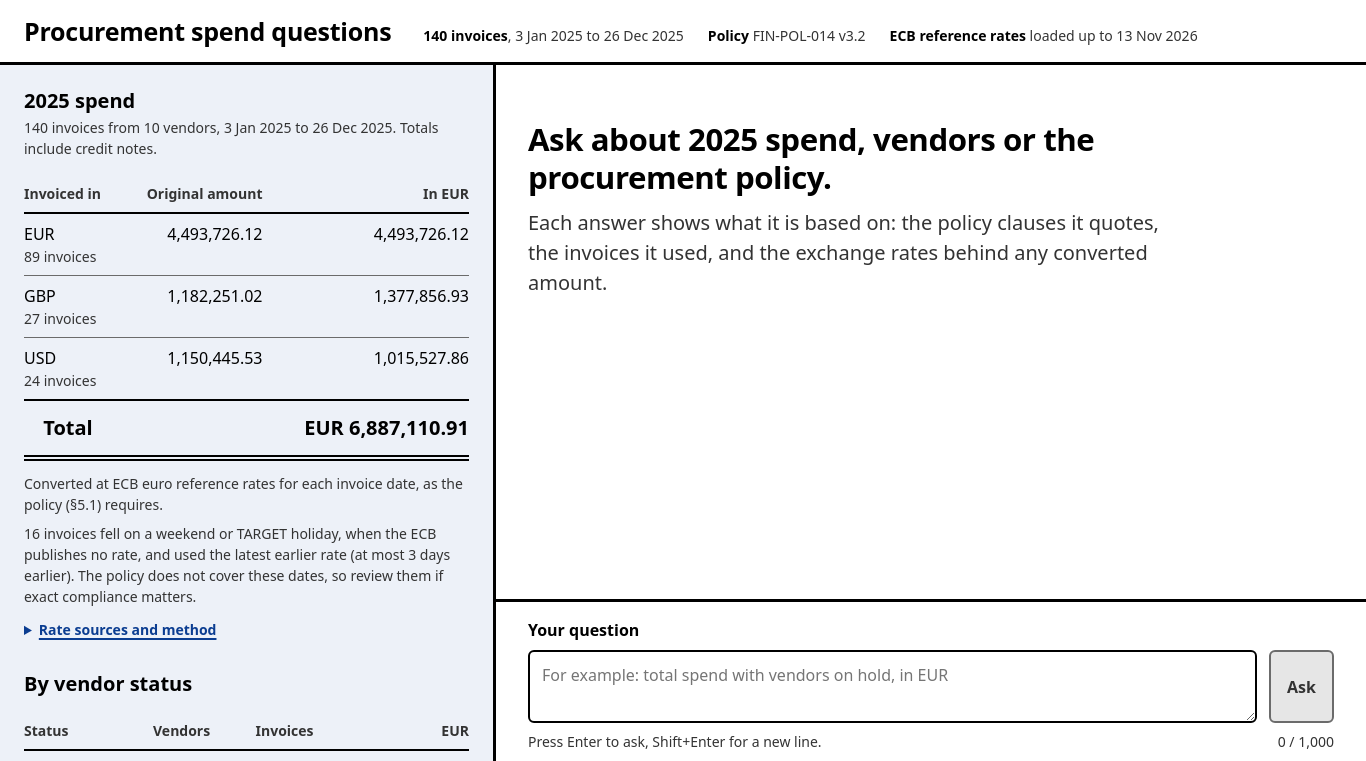
Test: asking questions › turns a failed query into guidance with an edit action
Later steps or results of the test are not shown.
Step 1. Type "Spend by region?" into the text box labelled "Your question" → x=893, y=687, box [528, 650, 1257, 723]
Then press Enter
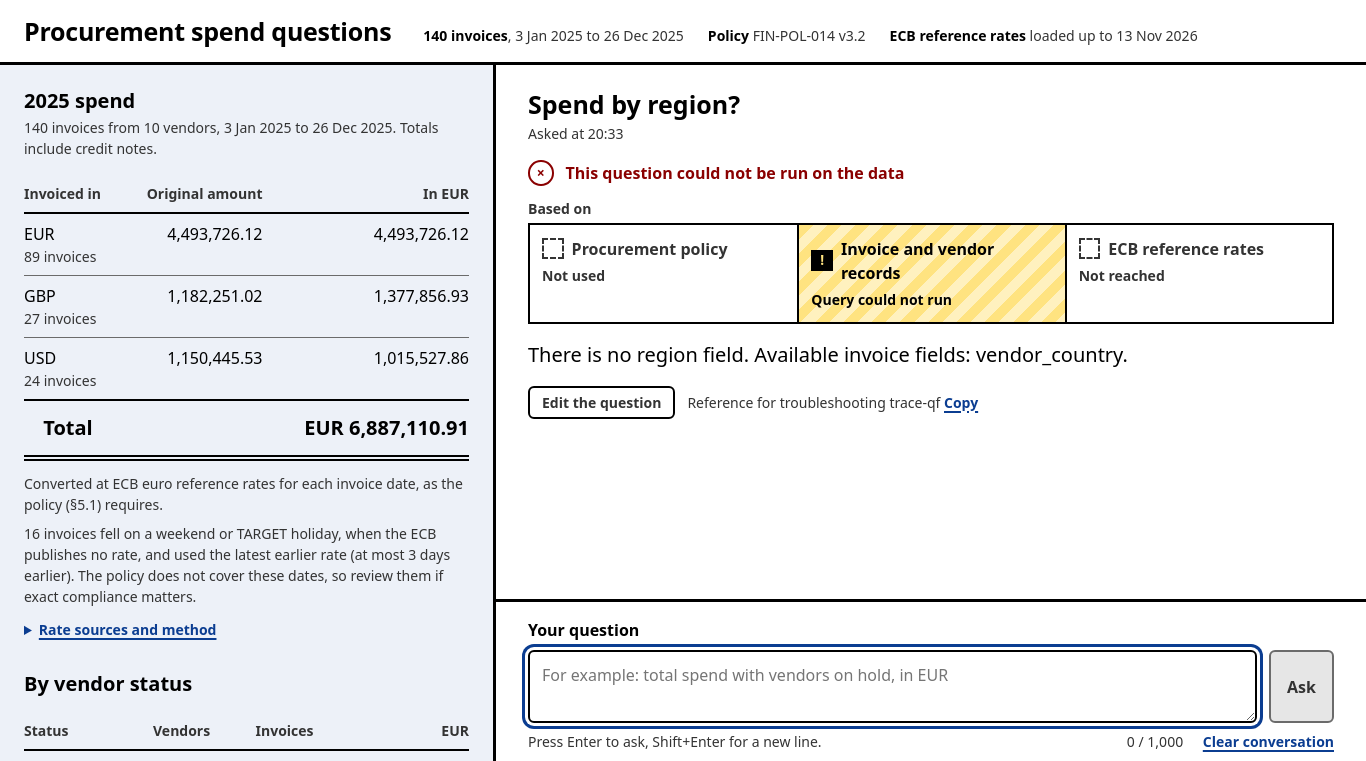
Expected: the text "This question could not be run on the data" is shown, [566, 162, 904, 184]
Expected: the text "Available invoice fields" is shown, [528, 341, 1128, 368]
